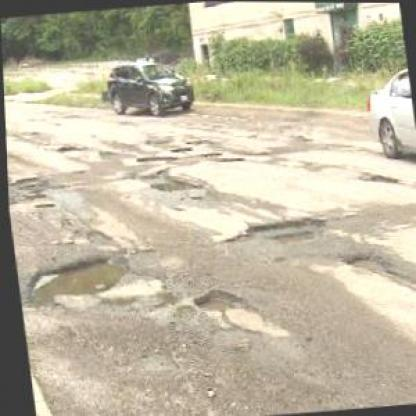pothole: (15, 248, 130, 312), (184, 280, 278, 340), (218, 209, 327, 250), (338, 248, 388, 276), (145, 173, 202, 194)
